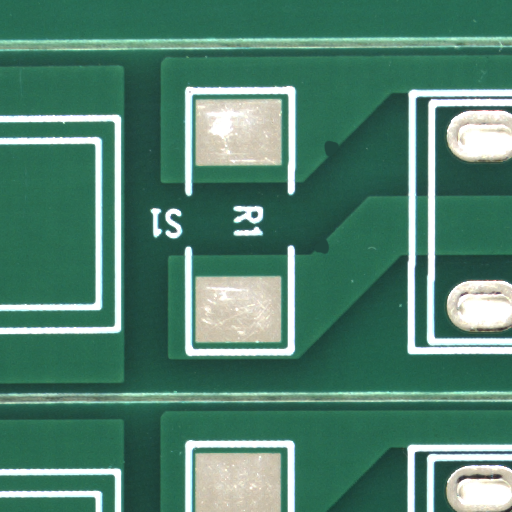Mouse_bite: (322, 246, 338, 261), (332, 149, 347, 164)
